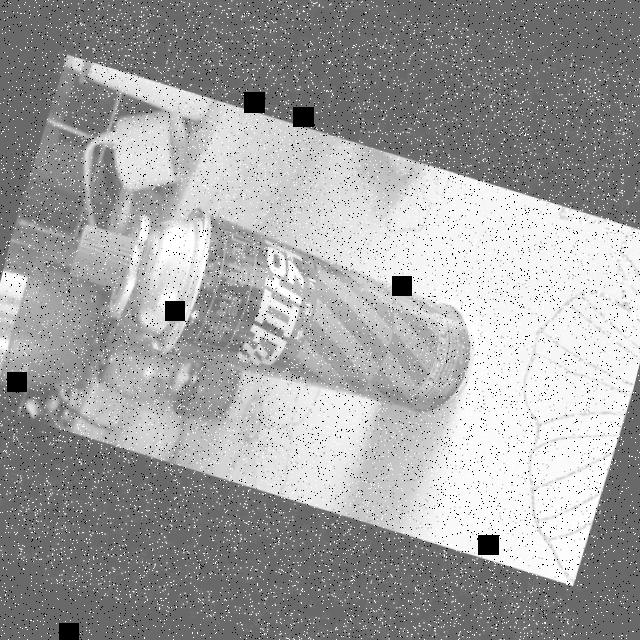chemical_spray_can: (32, 164, 516, 457)
